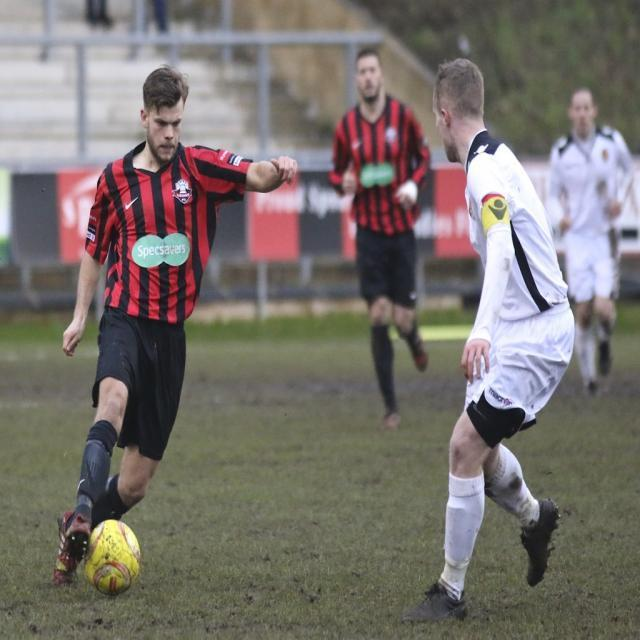football: (67, 518, 156, 612)
